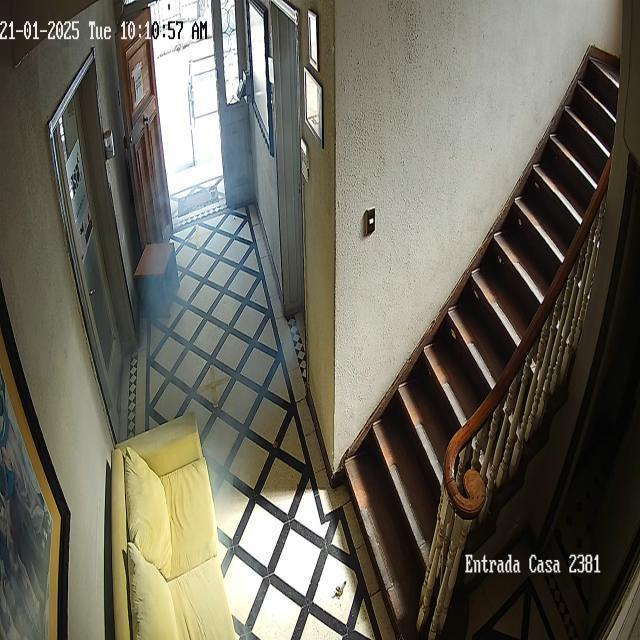fire: (126, 22, 306, 515)
